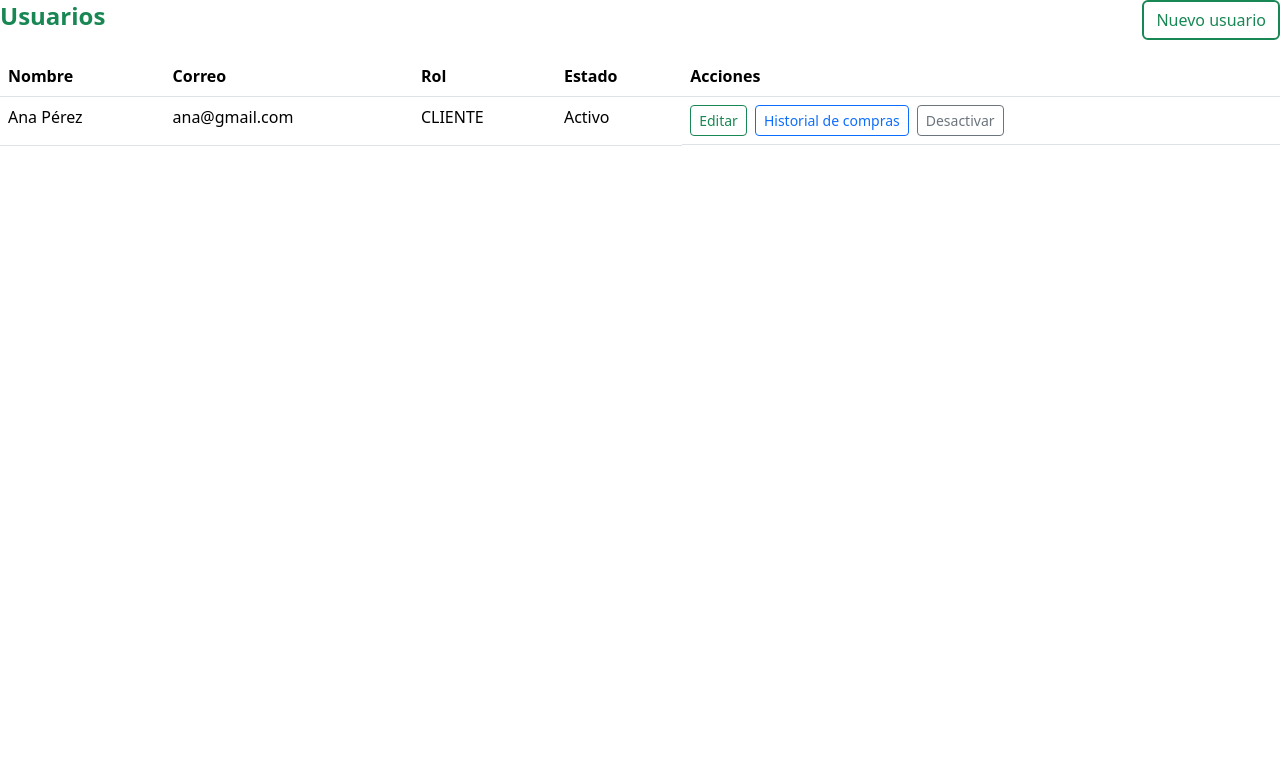
Test: permite editar un usuario conservando su identificador
Click the button with aria-label "Editar Ana Pérez" at (719, 120), box x1=690 y1=105 x2=747 y2=136
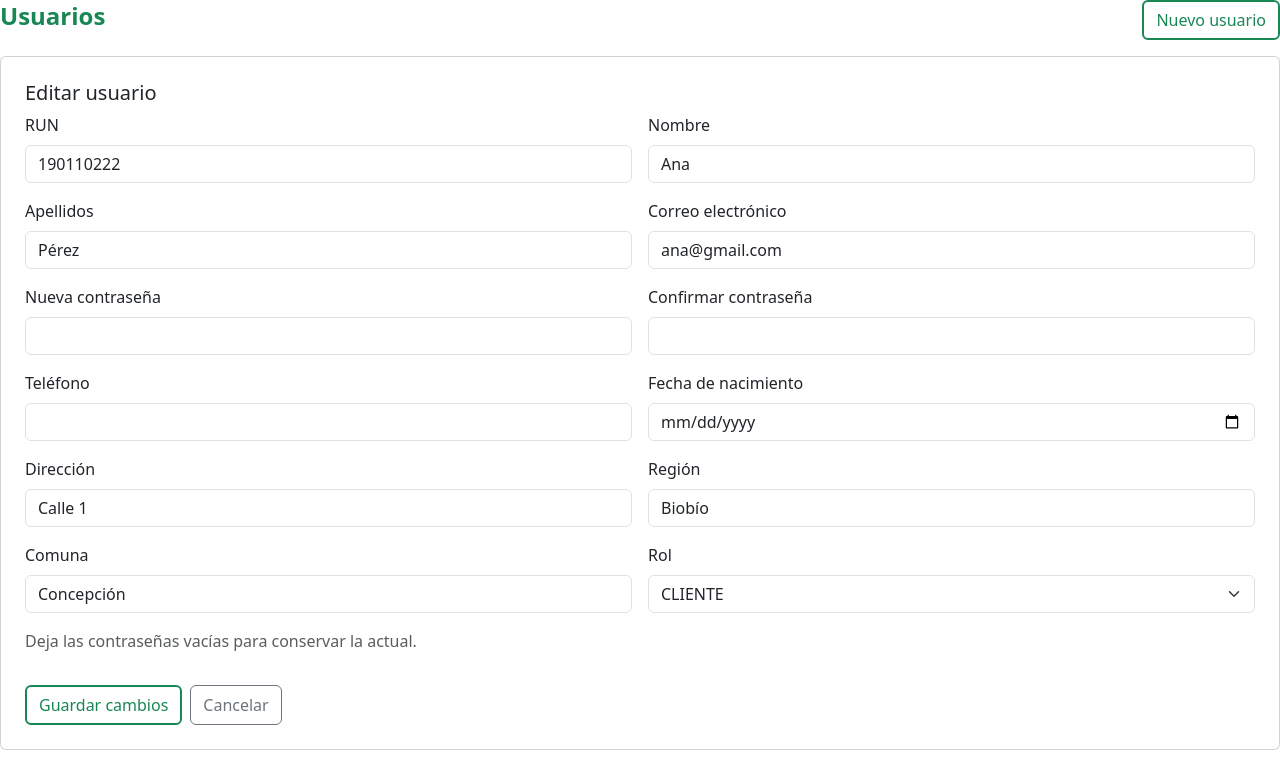
Replace the text in the field labelled "Nombre" with "Anita" at (952, 164), box x1=648 y1=145 x2=1255 y2=183
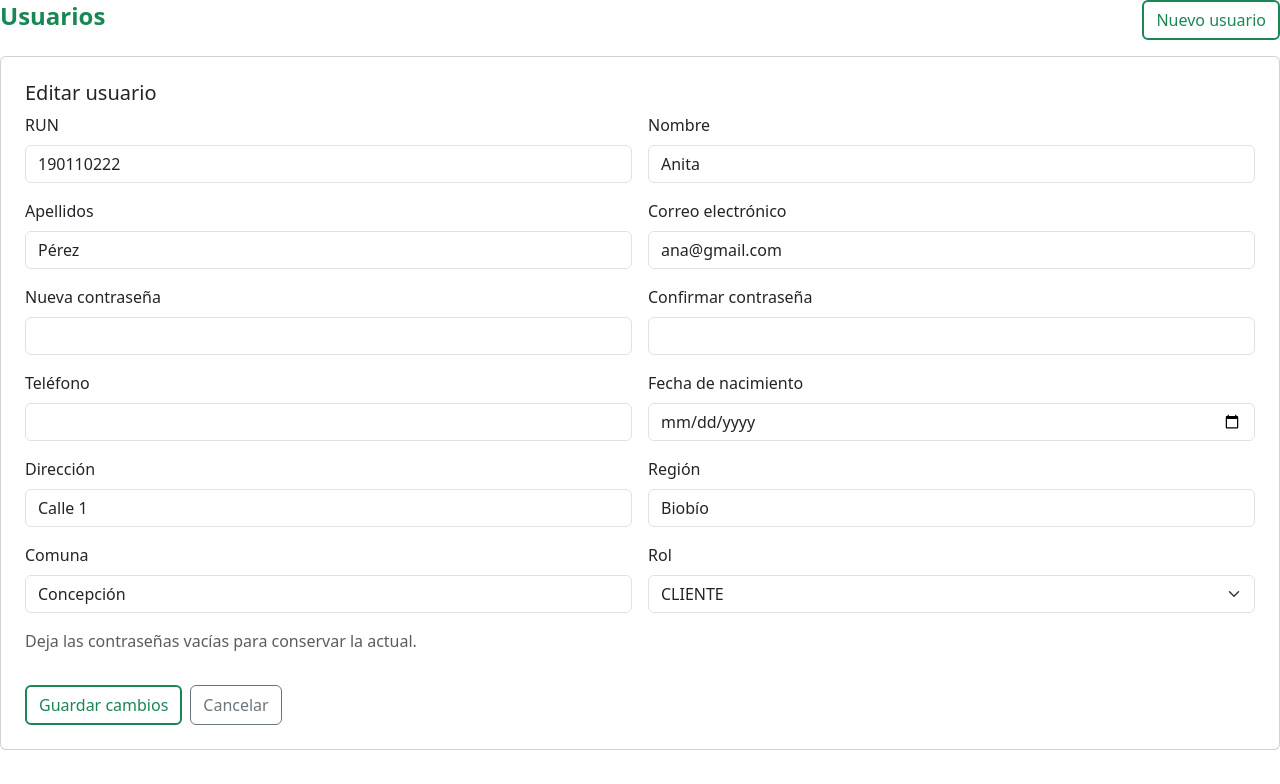
Click the button "Guardar cambios" at (104, 705), box x1=25 y1=685 x2=182 y2=725
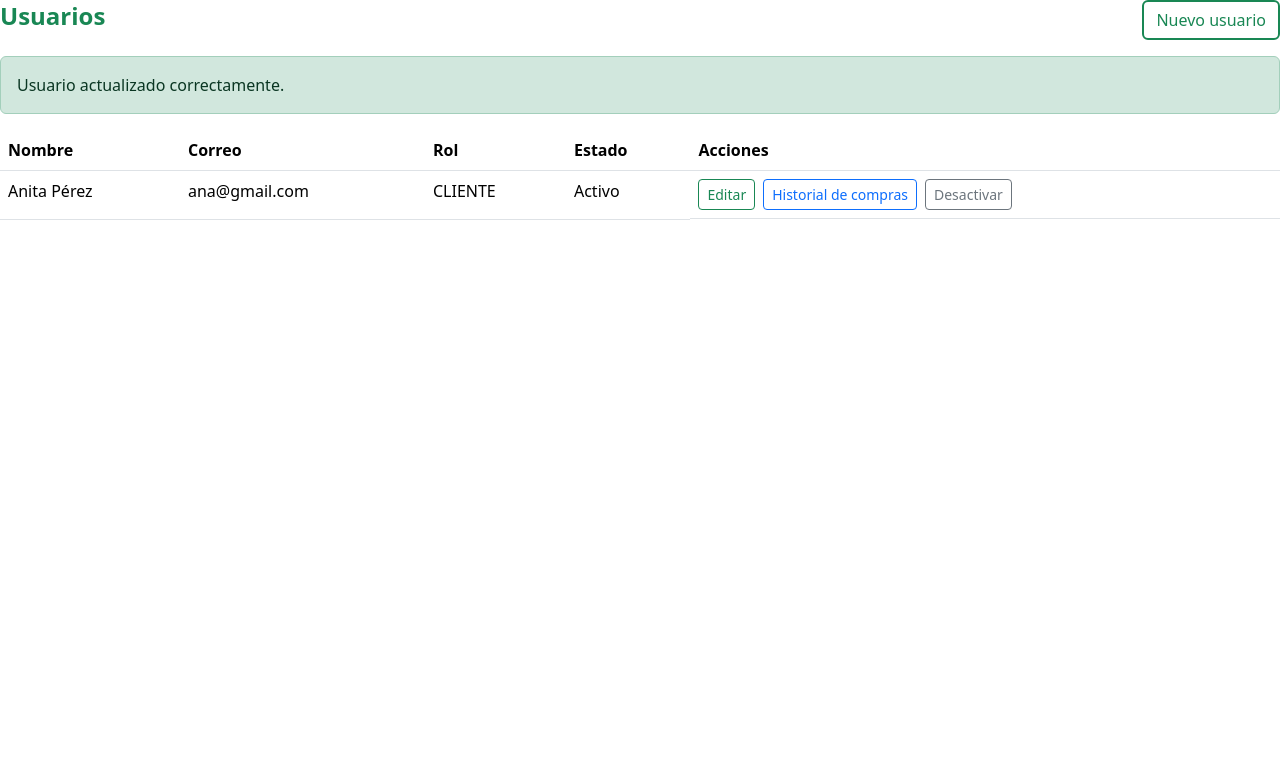
Check: the text "Anita Pérez" is shown, box x1=0 y1=170 x2=180 y2=219
